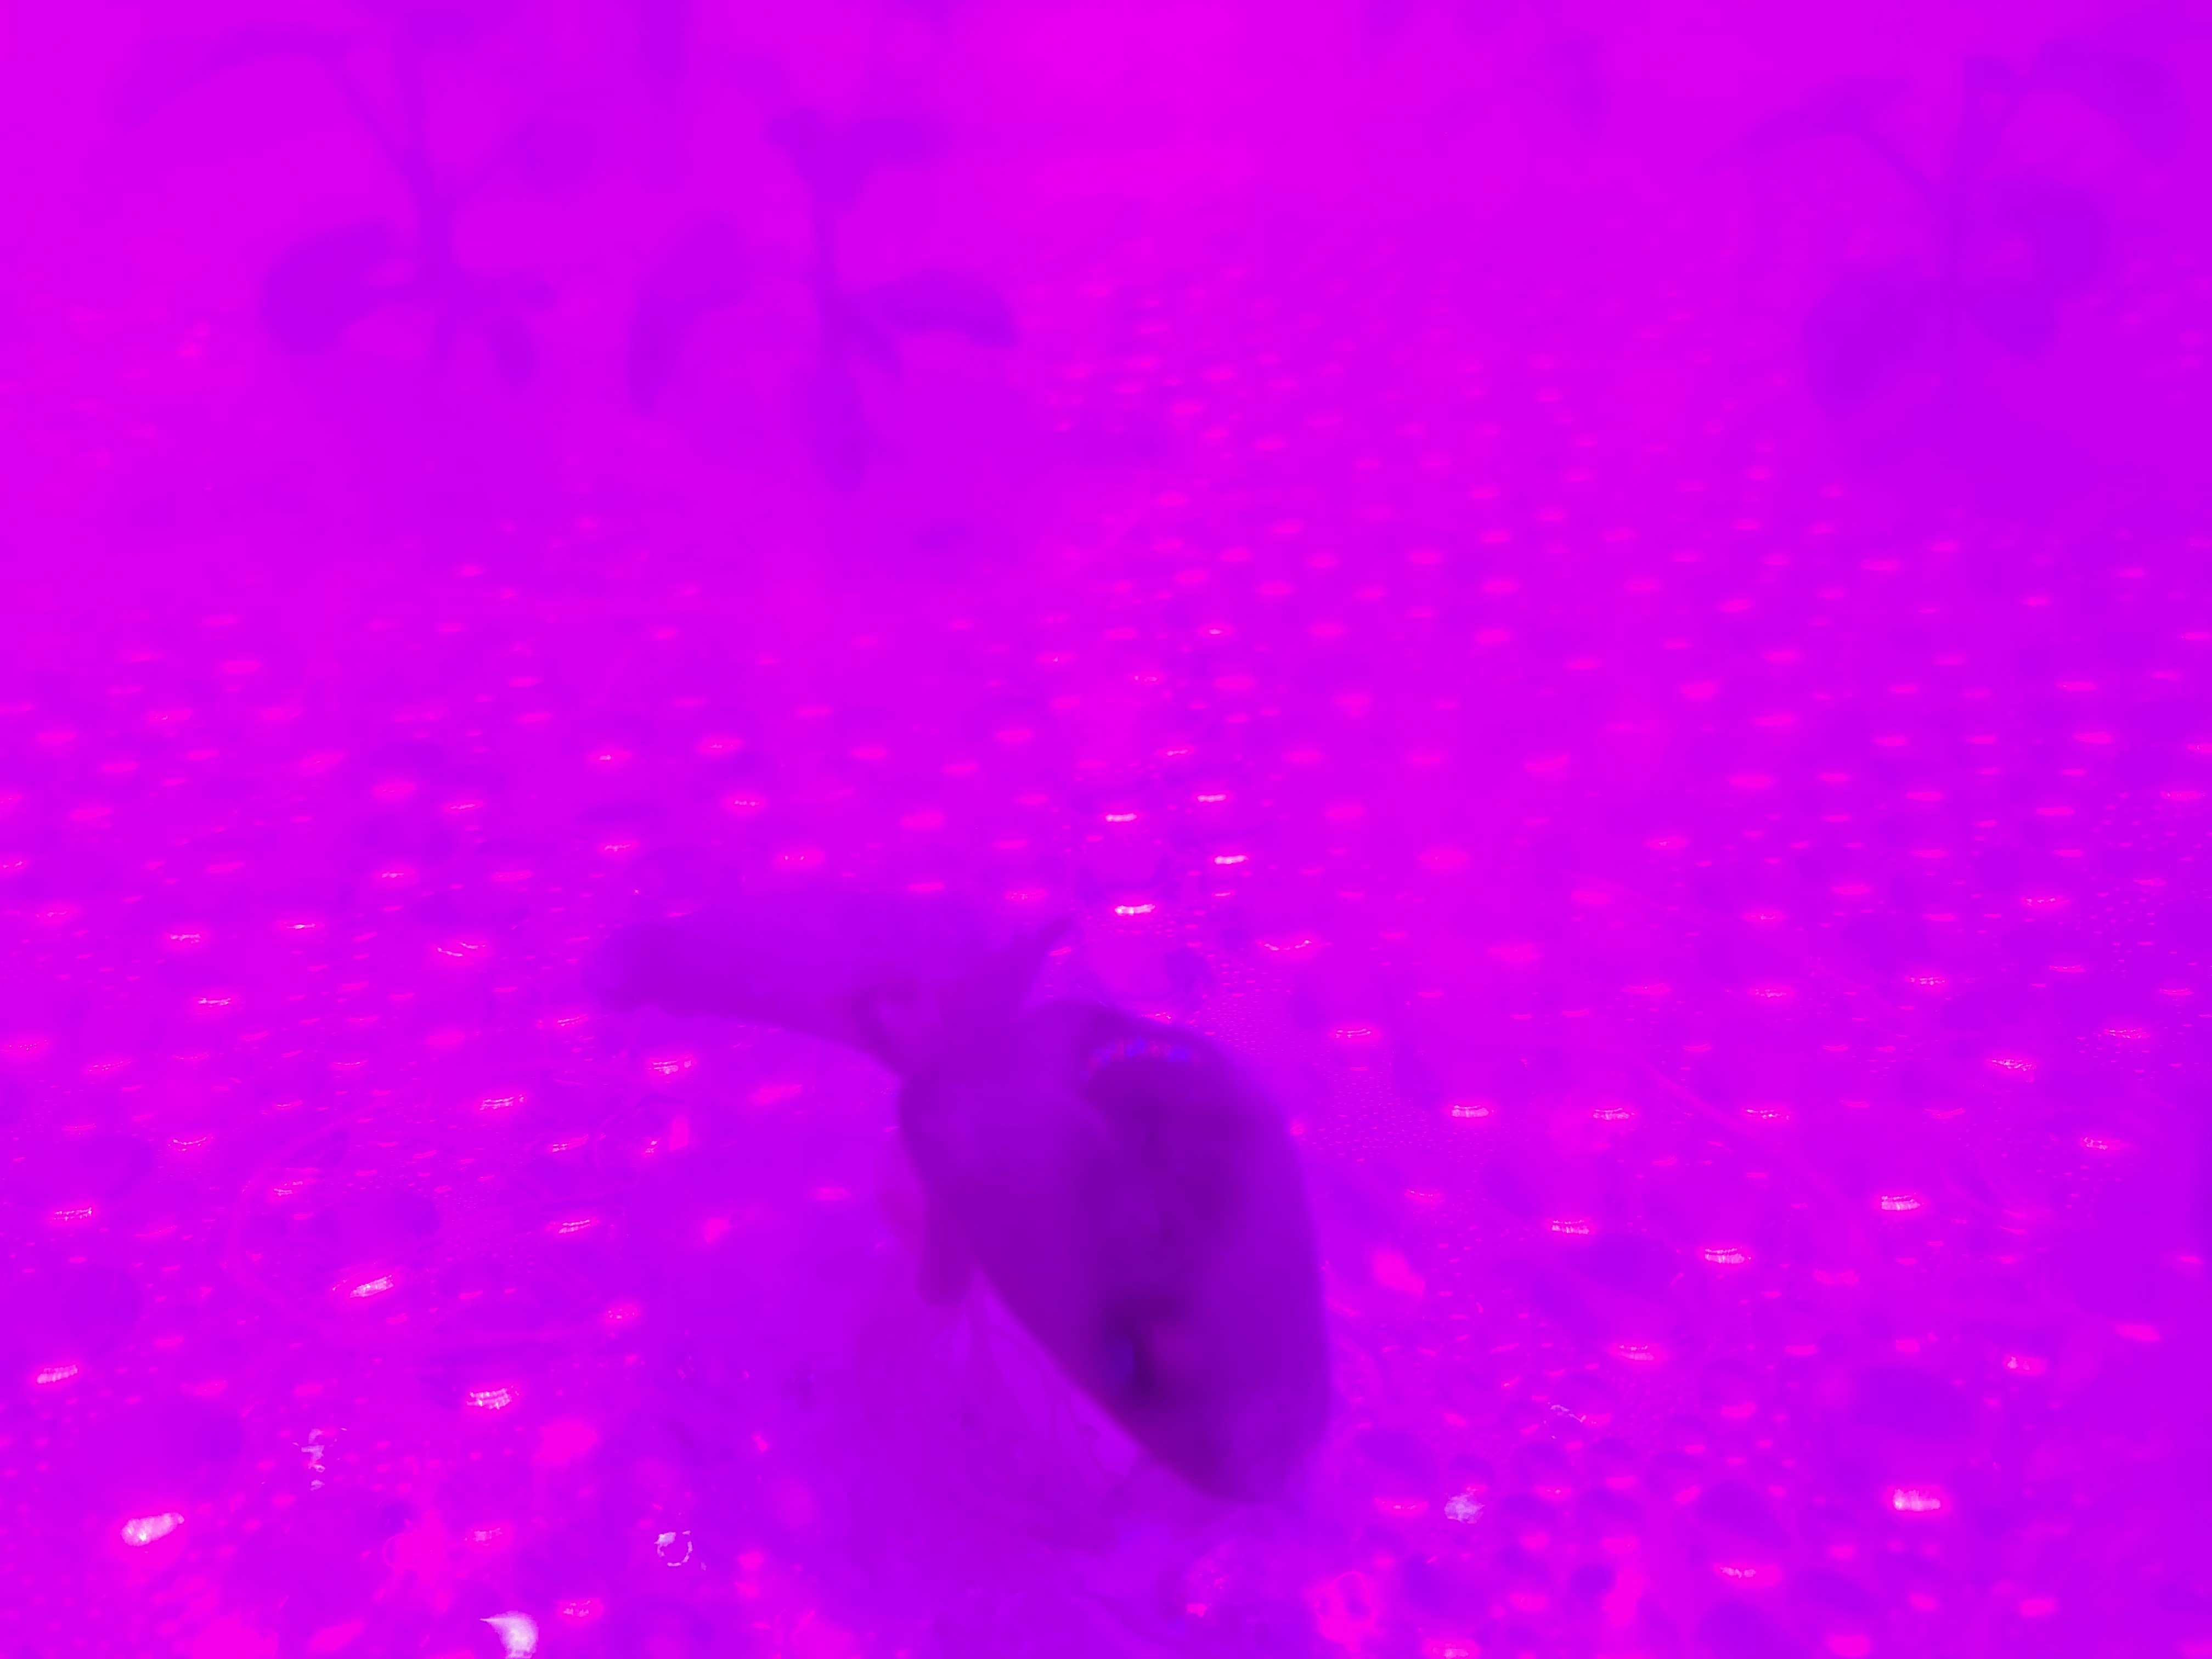seedling: (524, 823, 1449, 1509)
